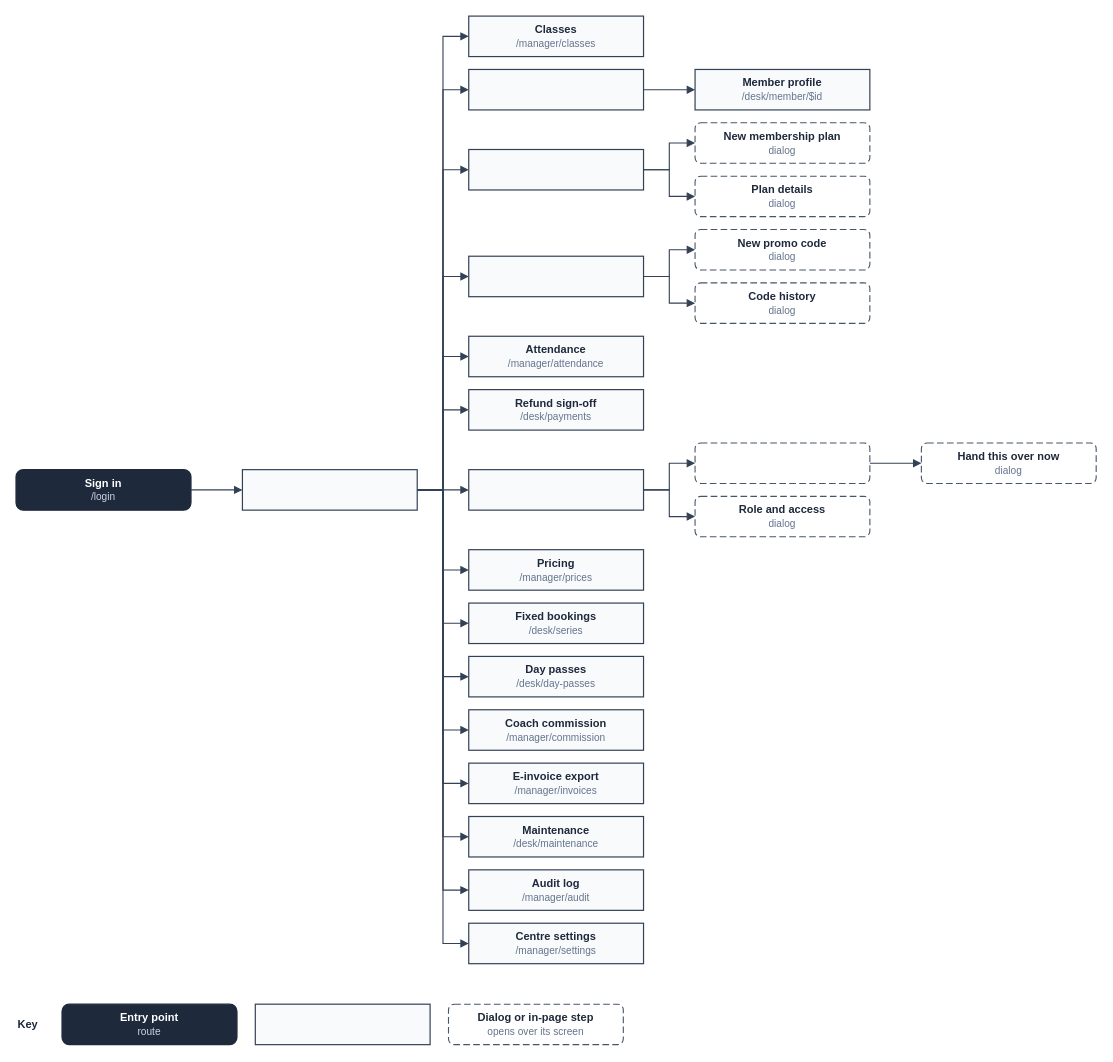
The diagram is 1113 pixels wide and 1062 high, and some of its shapes have lost their labels. Here are the shapes that lost their labels. From the top down, the centre of each, then its label:
At point (556, 89): "Members /manager/members".
At point (556, 169): "Membership plans /manager/plans".
At point (556, 276): "Promo codes /manager/promos".
At point (782, 463): "Add staff dialog".
At point (329, 489): "Reports /manager".
At point (556, 489): "Staff /manager/staff".
At point (342, 1024): "Screen route".
